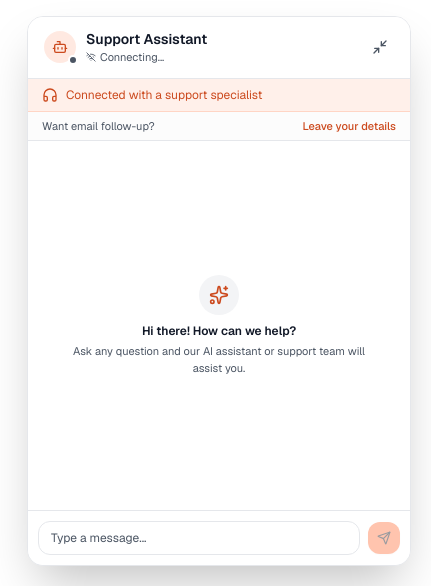
Test: CustomerChatWidget Component (CP6) › handles message sent when chat is controlled by human (suppressed AI_BYPASSED response)
Type "help me" into the field with placeholder "Type a message...".
click(199, 538); type("help me")  # box [38,521,360,555]
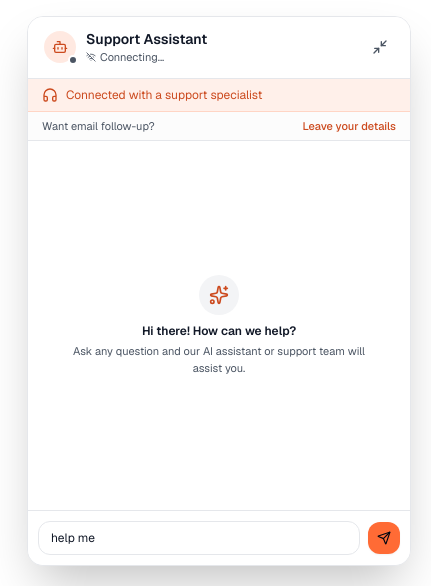
Click the button named "Send message".
click(384, 538)  # box [368,522,400,554]
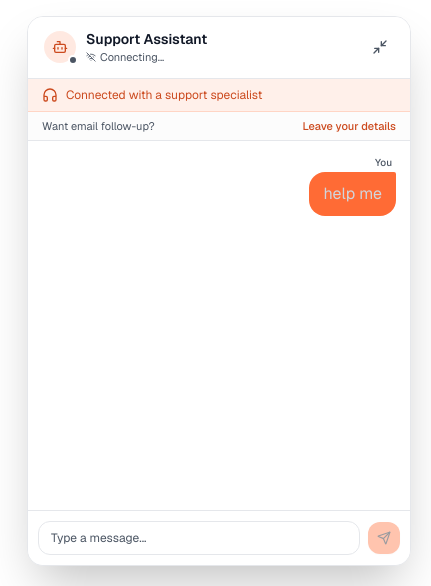
Result: the text "help me" is shown at [324,180,382,208]
